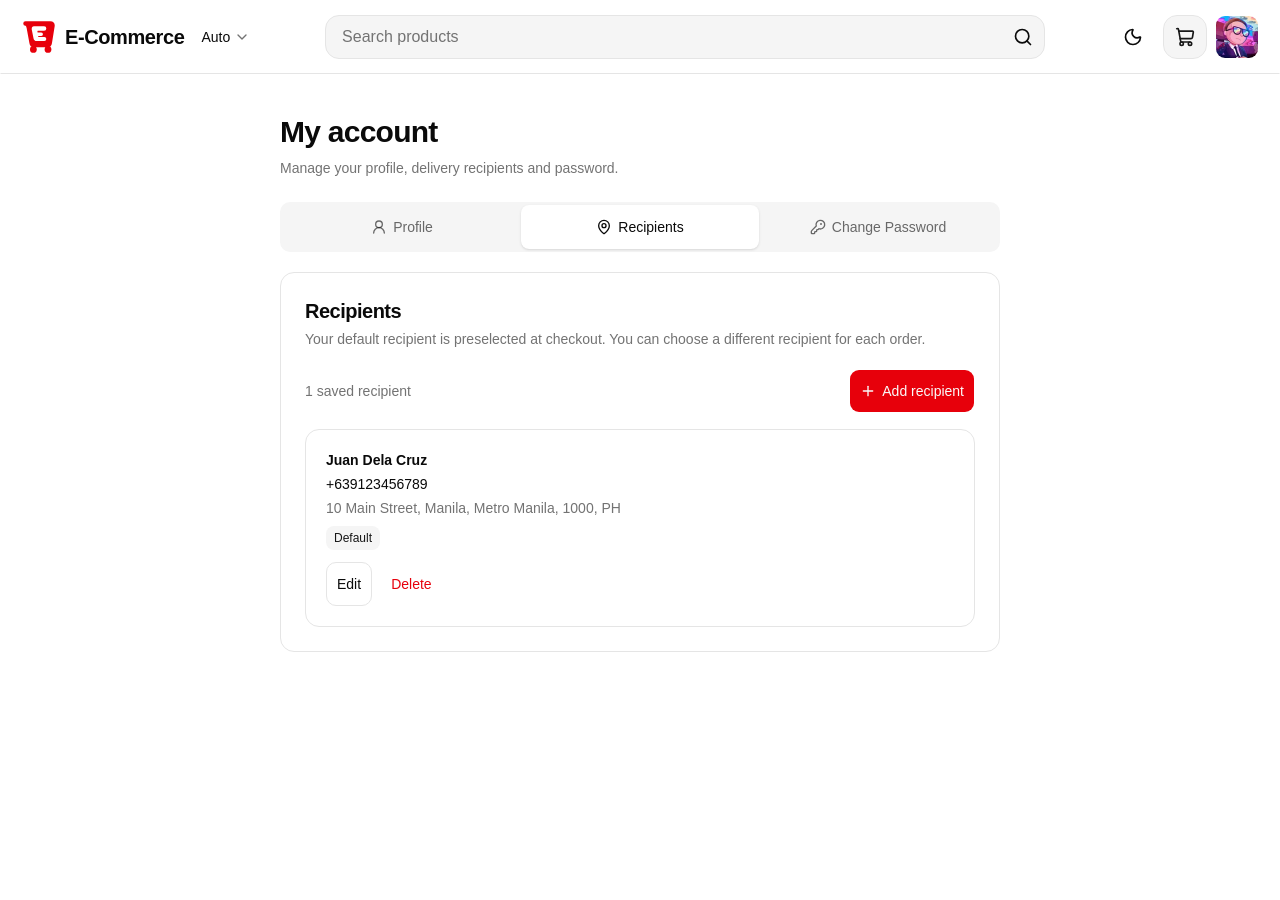
Scenario: unknown deletion reconciles the saved list without repeating the mutation
Click the button "Delete". click: coordinates (411, 584)
box: left=380, top=562, right=443, bottom=606
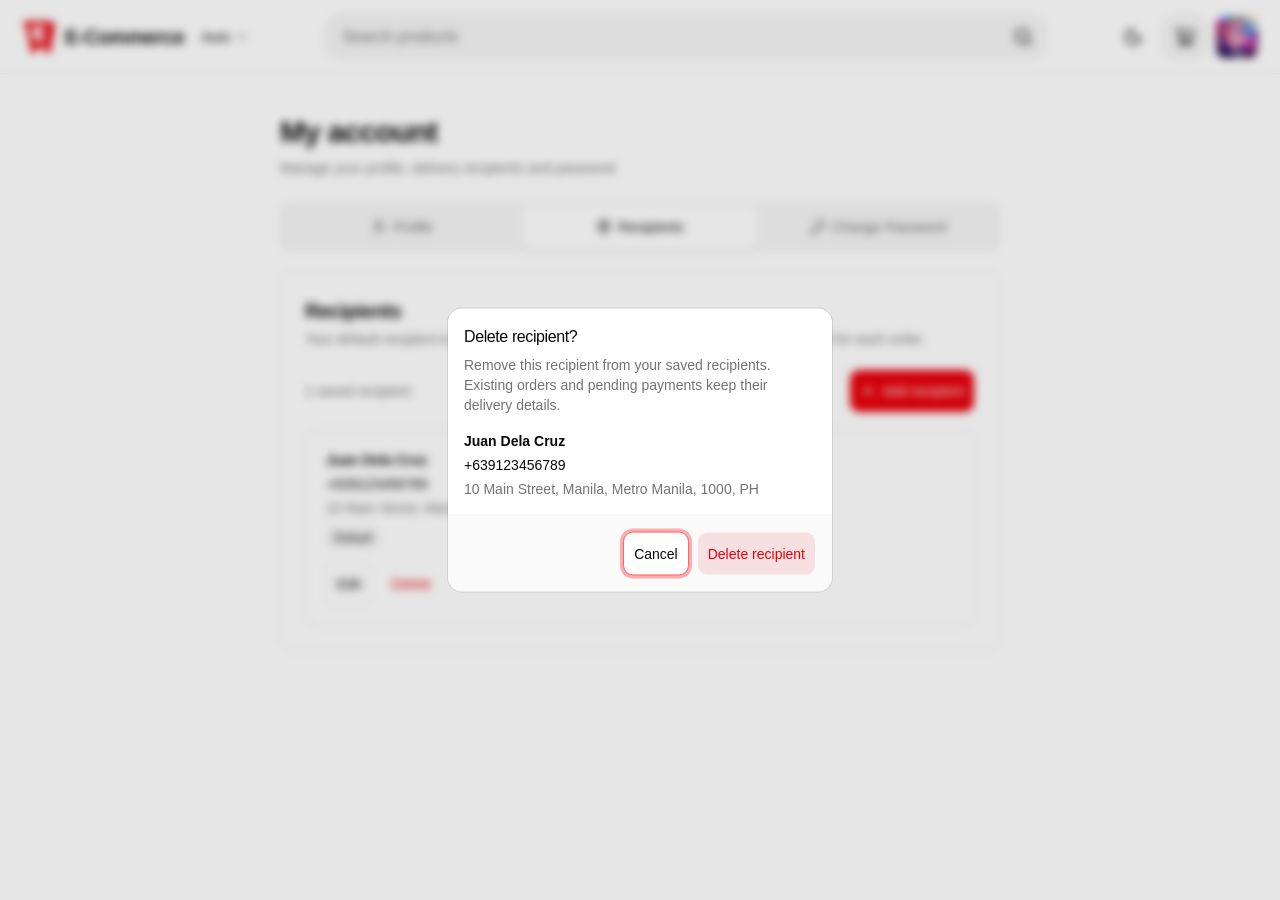
Click the button "Delete recipient". click: coordinates (756, 554)
box: left=697, top=532, right=816, bottom=576
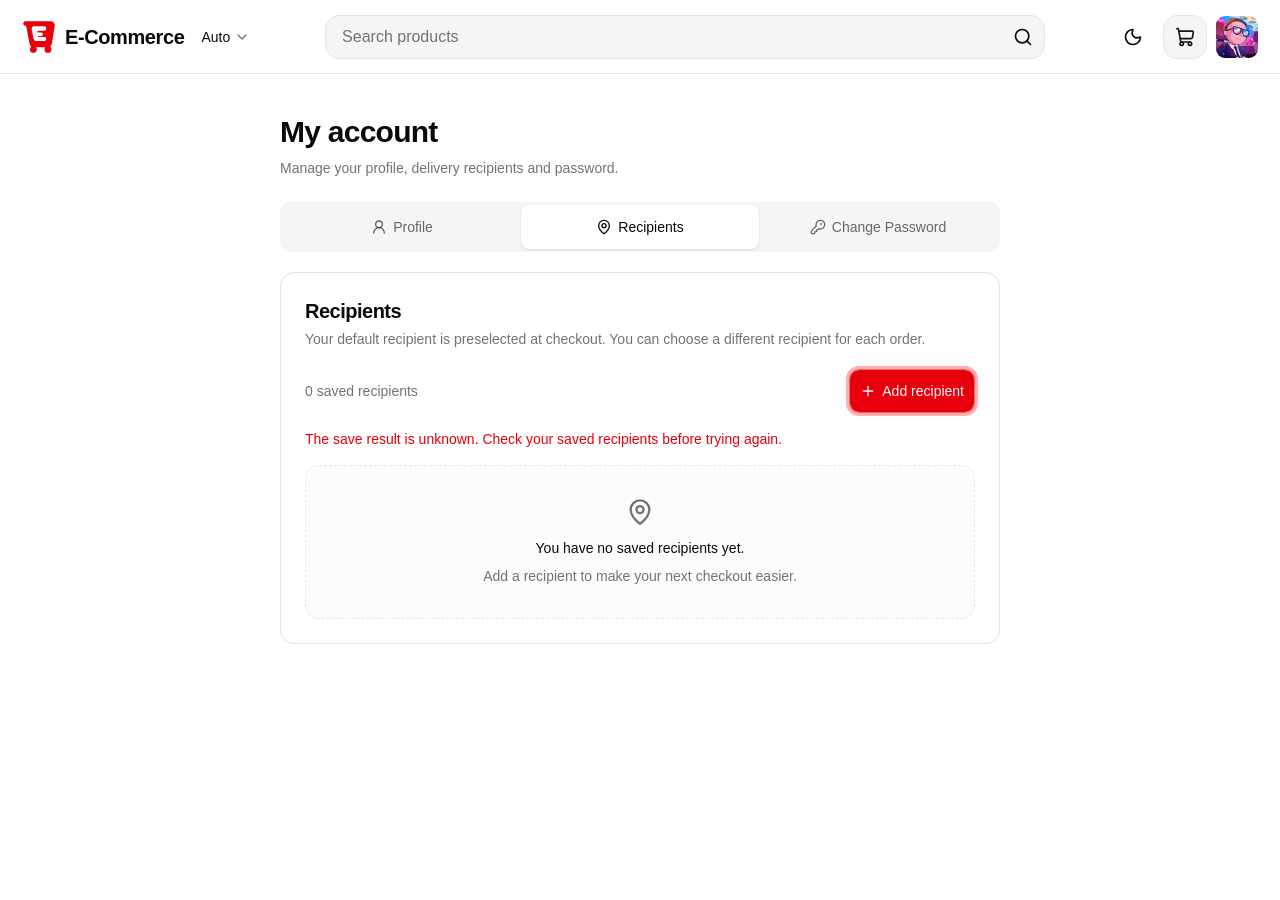
Now the text "You have no saved recipients yet." is shown, box left=536, top=540, right=744, bottom=556
Now the message shows "result is unknown", box left=305, top=431, right=782, bottom=447
